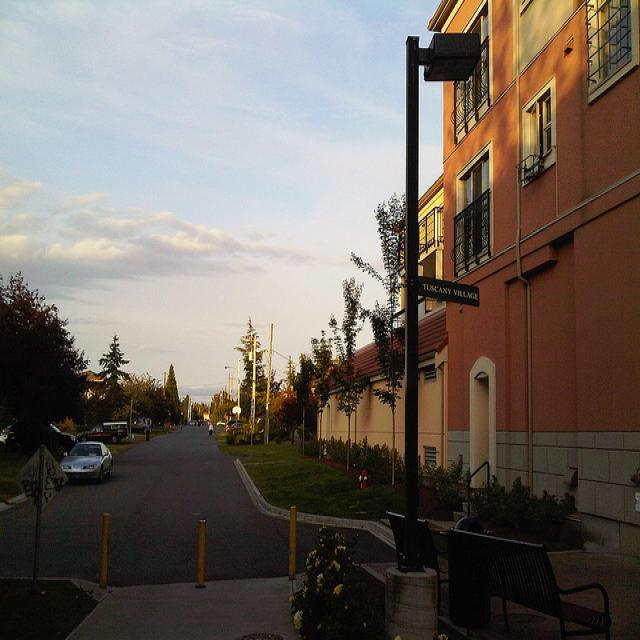fire_hydrant: (358, 470, 367, 490)
